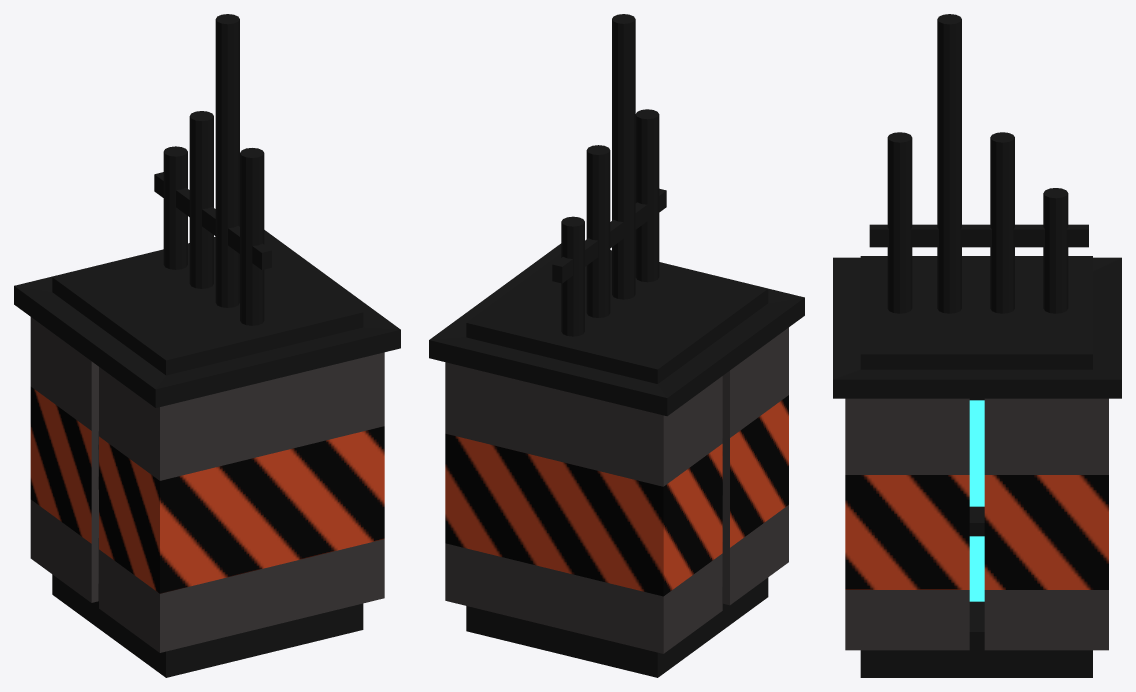
File: Level_2_Cover_RadioBox.fbx
The picture shows the model from 3 angles, left to right: view 1: azimuth 30°, elevation 25°; view 2: azimuth 150°, elevation 25°; view 3: azimuth 270°, elevation 25°; orthographic projection. The views are drawn at different scales.
Parts seen in each view (by area): view 1: Power Panel.001, Power Frame, Power Panel; view 2: Power Panel, Power Frame, Power Panel.001; view 3: Power Frame, Power Panel.001, Power Panel.
Boxes of the visible parts, bbox=[...] form: Power Panel.001: bbox=[99, 352, 384, 652]; Power Frame: bbox=[14, 14, 400, 677]; Power Panel: bbox=[30, 317, 98, 602]; Power Panel: bbox=[445, 362, 722, 653]; Power Frame: bbox=[429, 14, 804, 677]; Power Panel.001: bbox=[722, 327, 788, 605]; Power Frame: bbox=[833, 14, 1121, 677]; Power Panel.001: bbox=[845, 398, 969, 650]; Power Panel: bbox=[984, 398, 1108, 650].
Bounding box in the file's own units: 3.91 × 3.91 × 9.17.
